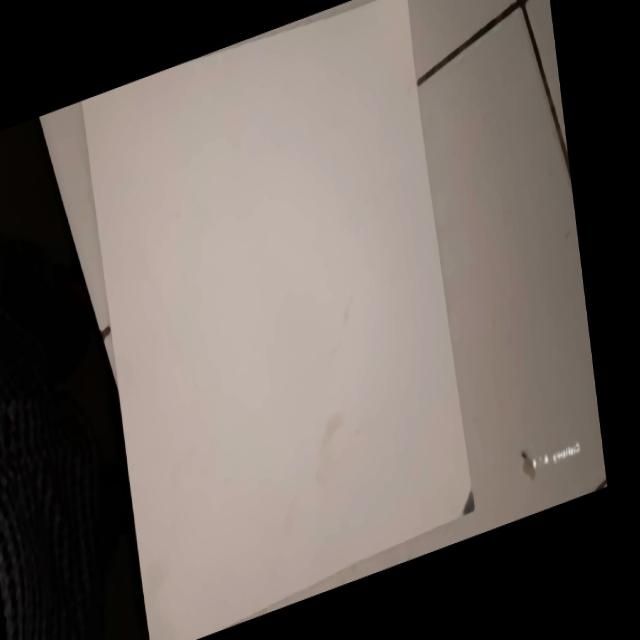TLC Plate: (83, 0, 474, 626)
